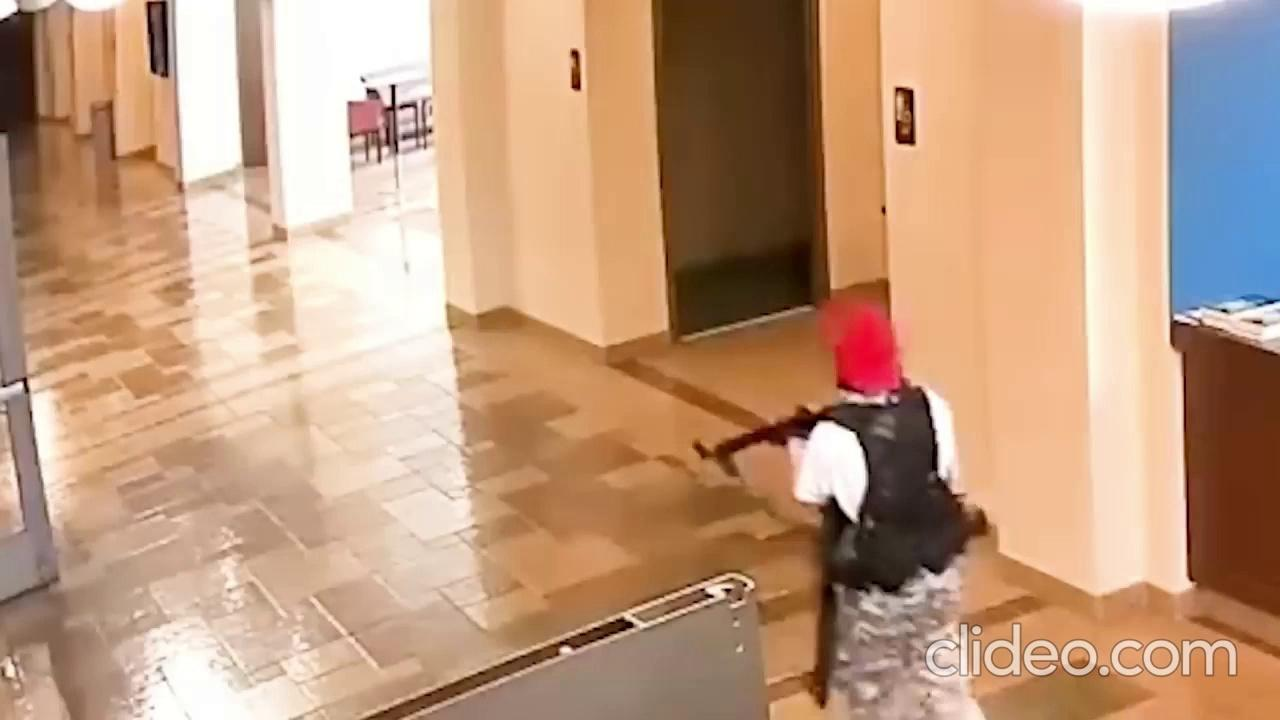person: (783, 297, 989, 720)
rifle: (805, 490, 853, 710)
